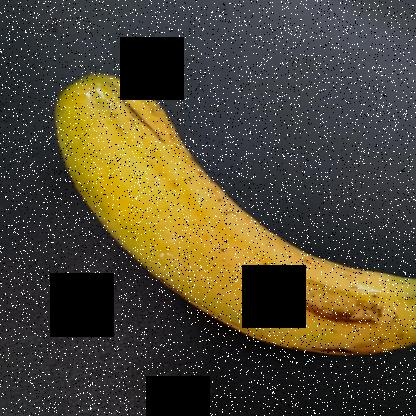ripe: (56, 68, 415, 374)
